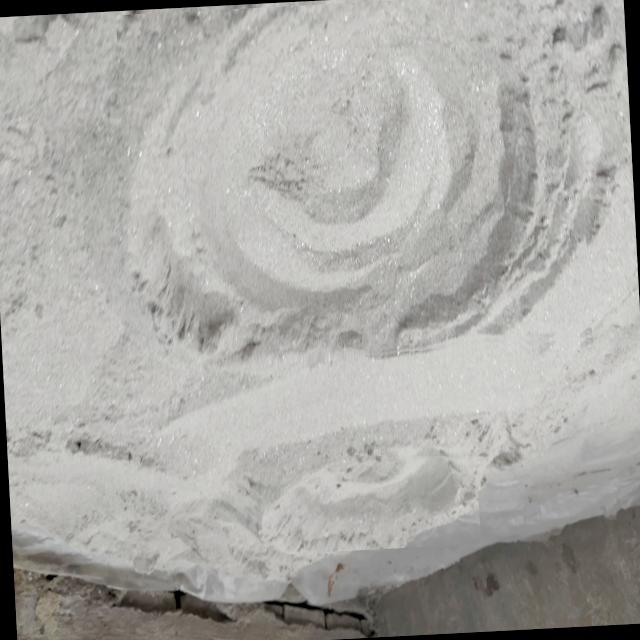C20: (116, 0, 581, 361), (264, 453, 478, 554)
